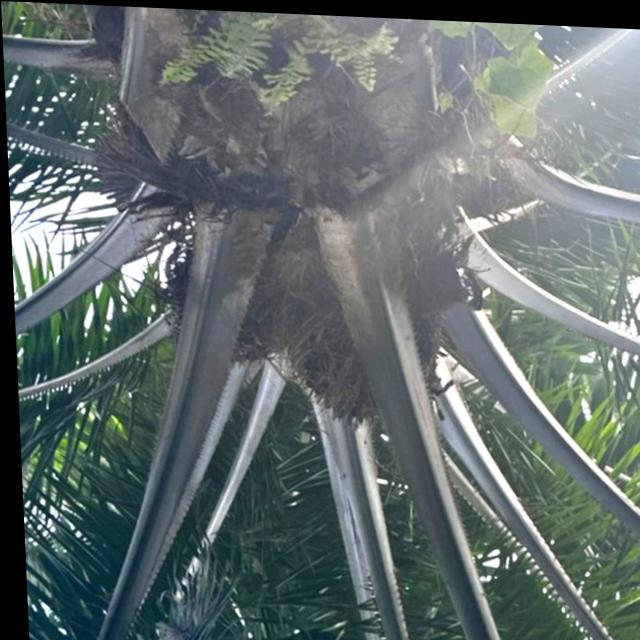unripe: (271, 232, 445, 428), (155, 222, 272, 363)
